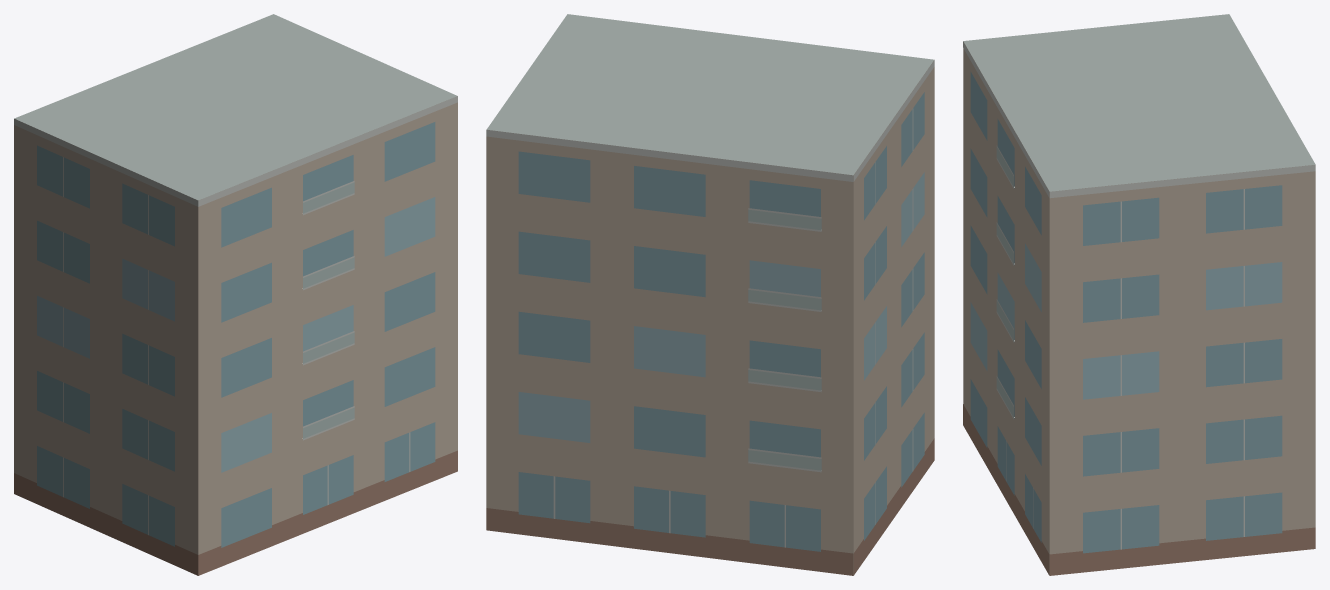
File: survey-upis-33035437.glb
The picture shows the model from 3 angles, left to right: view 1: azimuth 30°, elevation 25°; view 2: azimuth 150°, elevation 25°; view 3: azimuth 270°, elevation 25°; orthographic projection. The views are drawn at different scales.
Parts seen in each view (by area): view 1: survey-upis-33035437.tmp; view 2: survey-upis-33035437.tmp; view 3: survey-upis-33035437.tmp.
Part boxes in pixels (left/top/right/bottom): survey-upis-33035437.tmp: left=14, top=14, right=457, bottom=575; survey-upis-33035437.tmp: left=486, top=14, right=934, bottom=575; survey-upis-33035437.tmp: left=963, top=14, right=1315, bottom=575.
Bounding box in the file's own units: 14.25 × 14.35 × 11.95.
